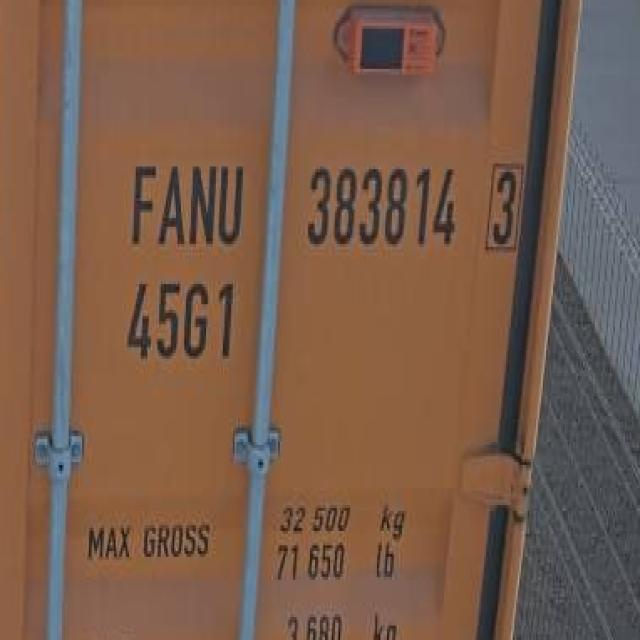dv: (483, 157, 526, 258)
owner: (123, 150, 254, 260)
serial: (298, 158, 460, 266)
size: (119, 274, 242, 374)
